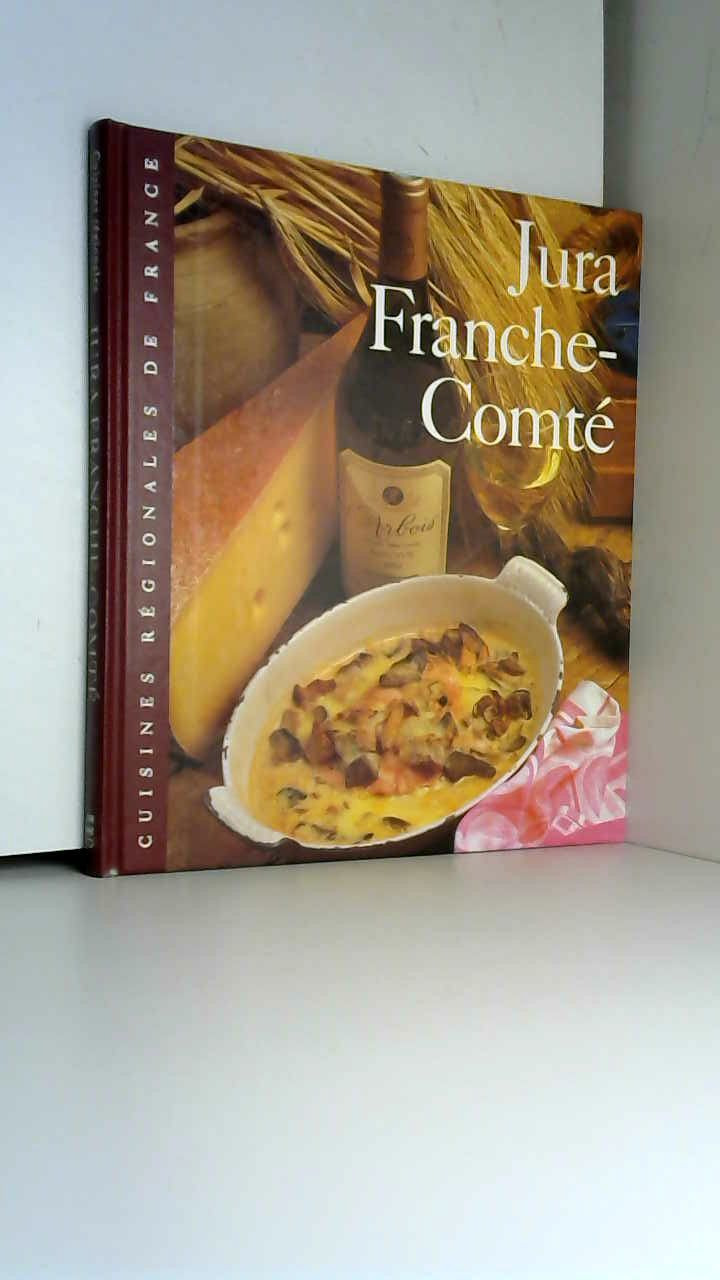book: (50, 90, 715, 898)
